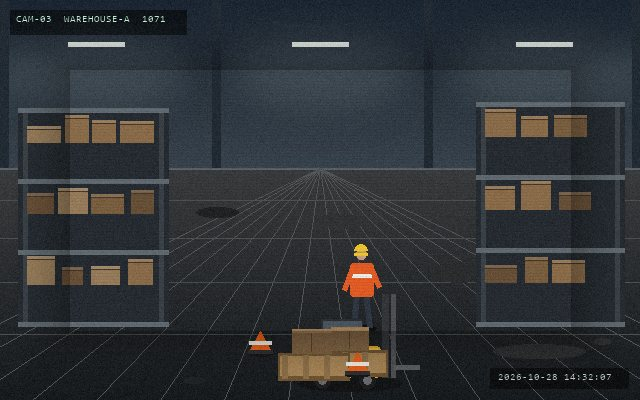cone: (247, 329, 273, 356), (344, 350, 370, 377)
forklift: (302, 292, 421, 391)
pallet: (276, 351, 351, 382), (316, 348, 389, 378)
person: (342, 242, 380, 330)
shelf: (476, 102, 624, 322), (18, 108, 168, 322)
